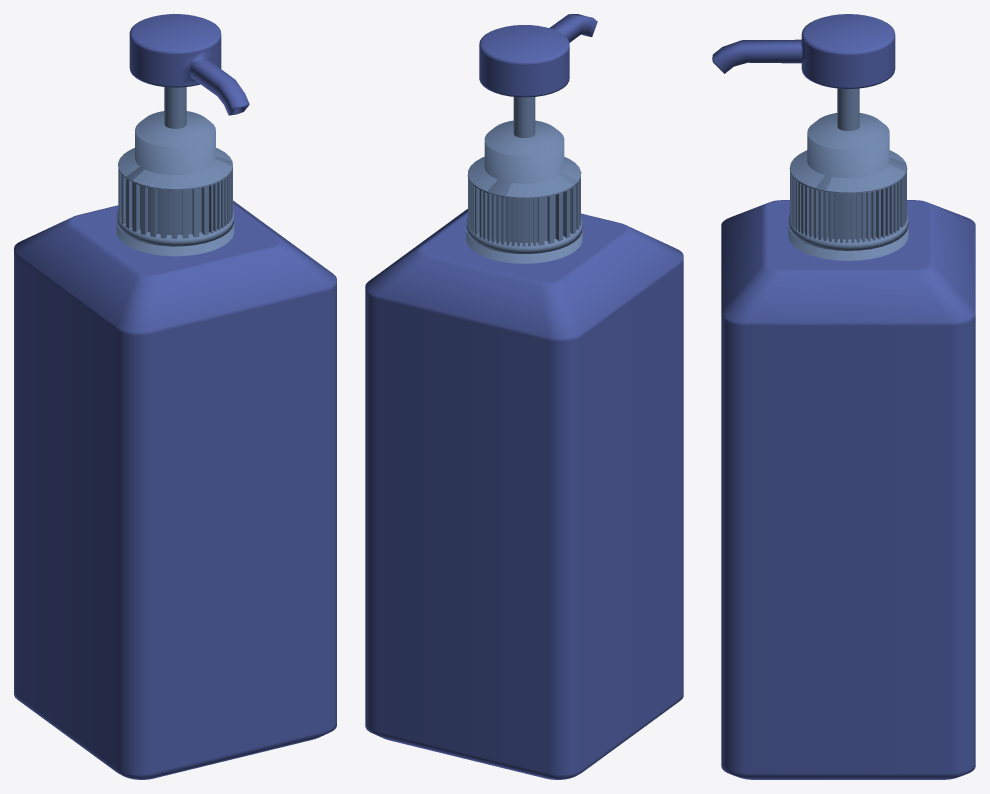
File: bottle2.glb
3 views of the same model, side by side, from view 1: azimuth 30°, elevation 25°; view 2: azimuth 150°, elevation 25°; view 3: azimuth 270°, elevation 25° (orthographic). The views are drawn at different scales.
Visible parts, largest first — view 1: 平面; view 2: 平面; view 3: 平面.
Part boxes in pixels (bbox=[...]): 平面: bbox=[14, 14, 336, 779]; 平面: bbox=[365, 14, 683, 779]; 平面: bbox=[712, 14, 975, 779].
Size of the model in its own units: 0.1424 by 0.4307 by 0.1475.
